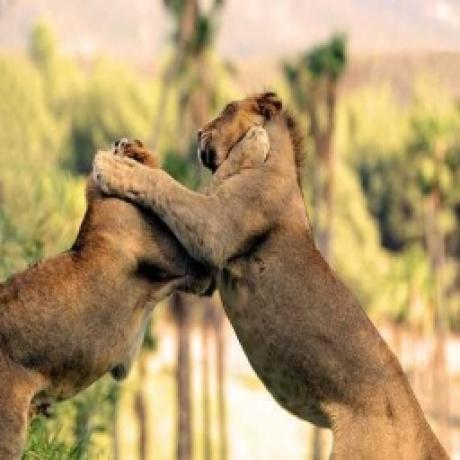Lion: (195, 90, 460, 460), (0, 135, 216, 460)
